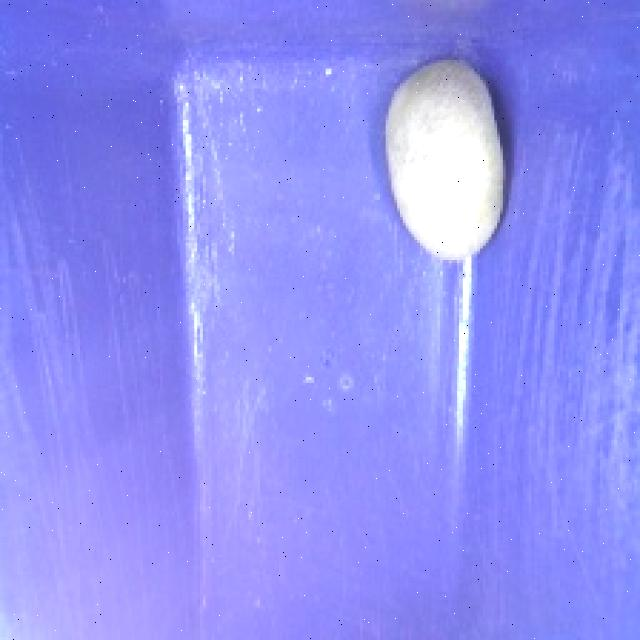potato: (375, 56, 513, 267)
